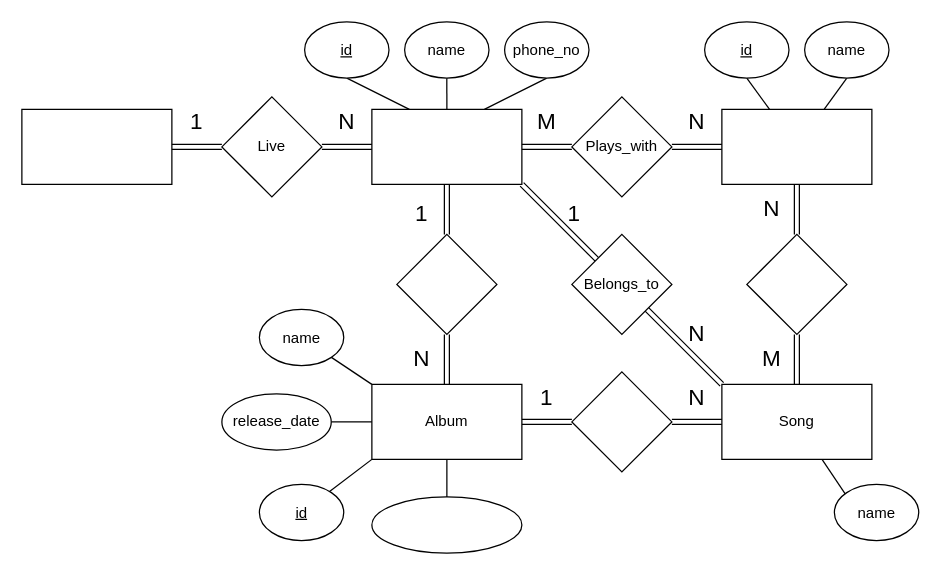
This 941x575 diagram has some shape labels left out. The shapes that lost their labels are listed below. From the top down, each one's box as (x1, y1, x2, y2) in pixels, then its label:
(21, 108, 172, 184): Address
(371, 108, 522, 184): Artist
(721, 108, 872, 184): Instrument
(396, 233, 497, 334): Releases
(746, 233, 847, 334): Plays_to
(571, 371, 672, 472): Have
(371, 496, 522, 553): number_of_songs
